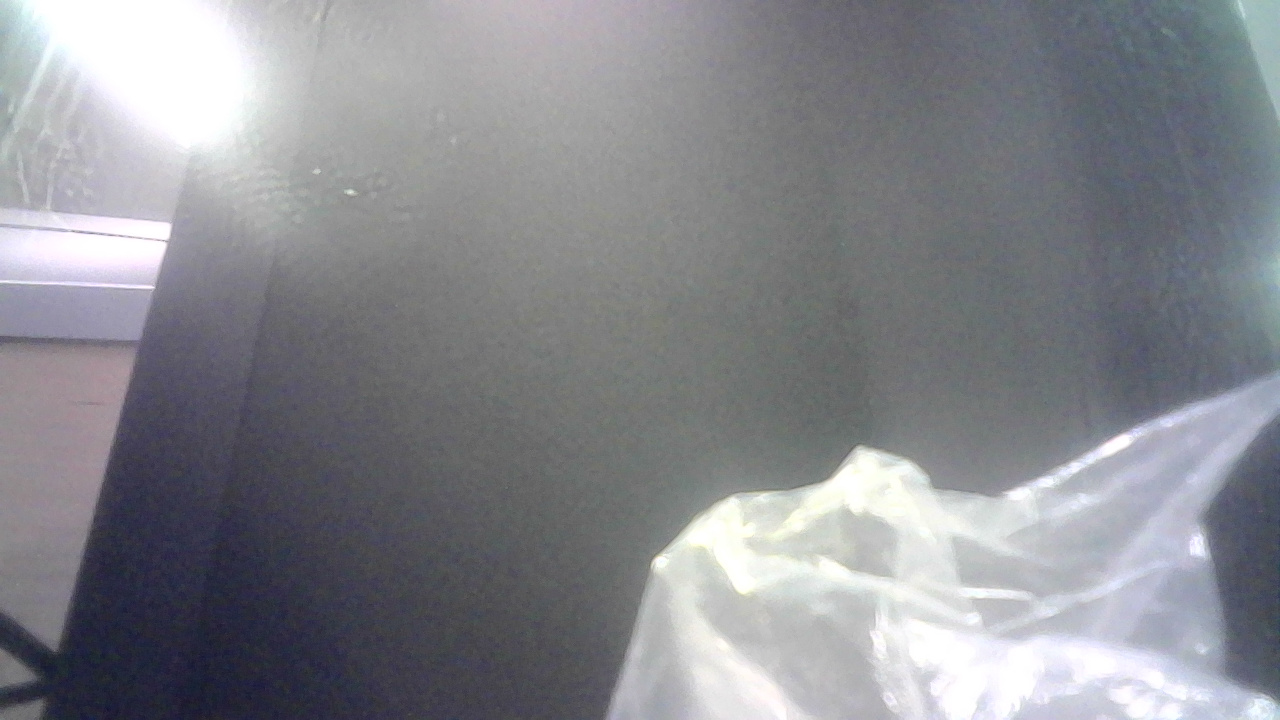Plastic_Recycling: (591, 371, 1280, 720)
